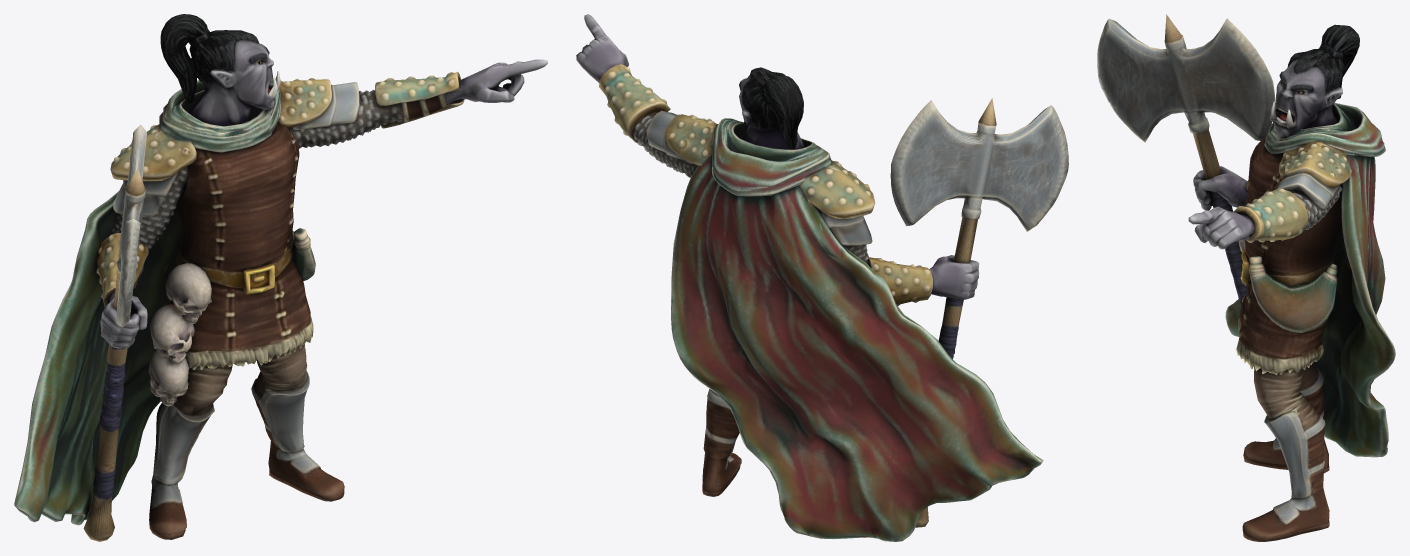
File: MZ4250 - Orc War Chief.glb
3 views of the same model, side by side, from view 1: azimuth 30°, elevation 25°; view 2: azimuth 150°, elevation 25°; view 3: azimuth 270°, elevation 25° (orthographic). The views are drawn at different scales.
Visible parts, largest first — view 1: body_low.001, axe_low.001, skulls_low.001, waterskin_low.001; view 2: body_low.001, axe_low.001; view 3: body_low.001, axe_low.001, waterskin_low.001.
Boxes of the visible parts, x1,y1,x2,y2 form: body_low.001: [14, 14, 547, 539]; axe_low.001: [83, 125, 146, 541]; skulls_low.001: [148, 263, 211, 406]; waterskin_low.001: [292, 228, 315, 280]; body_low.001: [576, 14, 1043, 541]; axe_low.001: [890, 98, 1068, 527]; body_low.001: [1188, 24, 1395, 541]; axe_low.001: [1097, 14, 1274, 306]; waterskin_low.001: [1249, 256, 1338, 332].
Size of the model in its own units: 6.81 by 6.04 by 3.54.
Materials: 1 (1 with a texture image).
